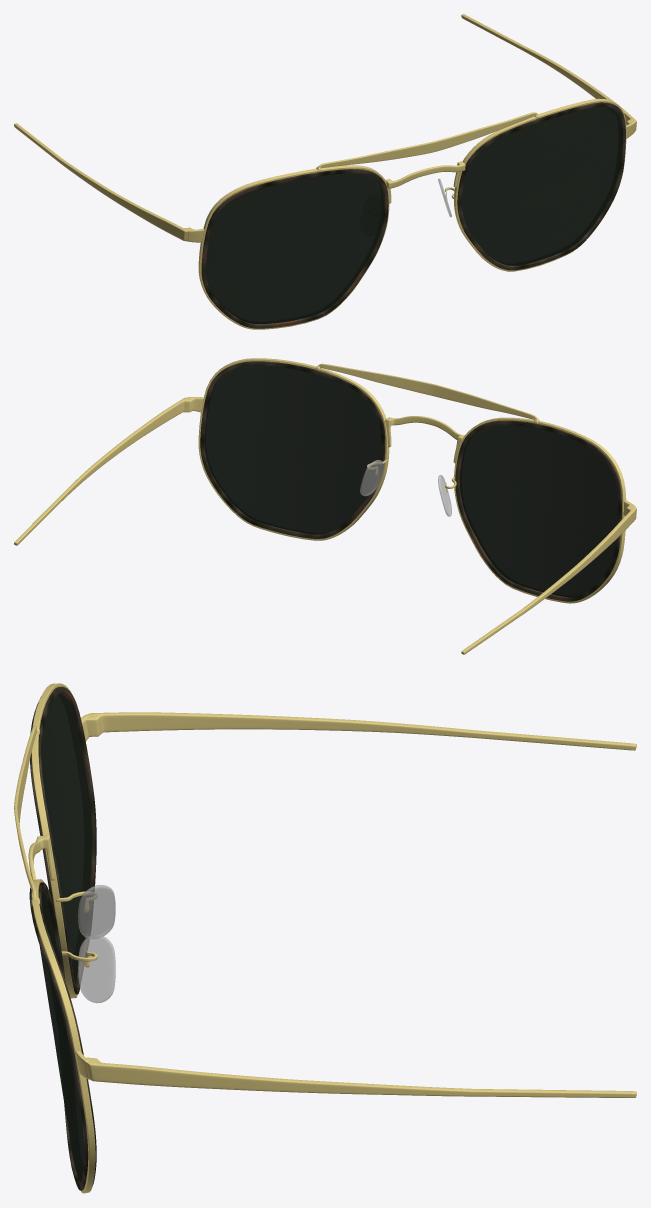
Rendered from Marshal.gltf.
3 views of the same model, one above another, from view 1: azimuth 30°, elevation 25°; view 2: azimuth 150°, elevation 25°; view 3: azimuth 270°, elevation 25° (orthographic). The views are drawn at different scales.
Visible parts, largest first — view 1: Lentes, armacao; view 2: Lentes, armacao, Pontes; view 3: armacao, Lentes, Pontes.
Boxes of the visible parts, x1,y1,x2,y2 form: Lentes: (206, 106, 621, 323); armacao: (14, 14, 636, 329); Lentes: (205, 365, 618, 597); armacao: (14, 358, 636, 654); Pontes: (360, 460, 451, 516); armacao: (14, 683, 636, 1193); Lentes: (39, 693, 91, 1181); Pontes: (78, 885, 115, 1003).
Bounding box in the file's own units: 0.159 × 0.0542 × 0.1144.
Materials: 4 (4 with a texture image).
